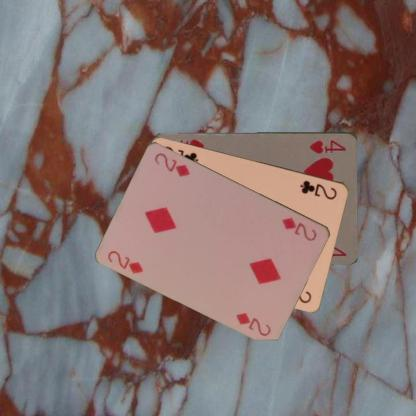2c: (298, 178, 338, 200)
2d: (105, 247, 146, 275), (279, 214, 318, 242)
4h: (306, 137, 347, 155)
